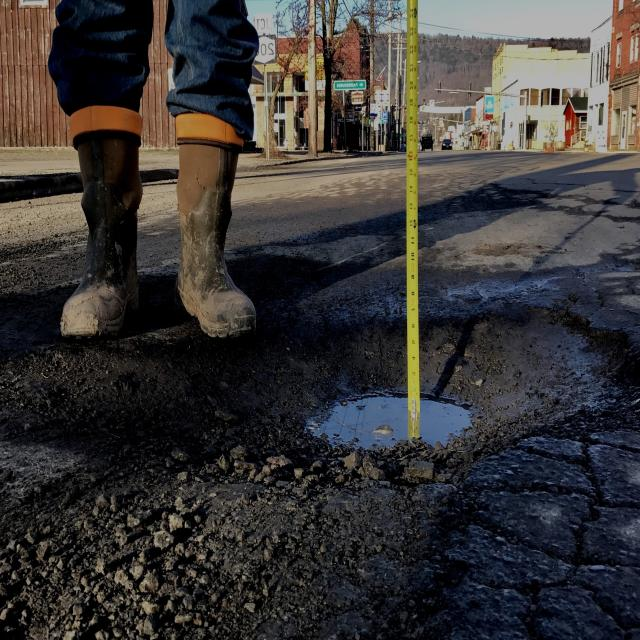road-pothole: (132, 300, 637, 500)
